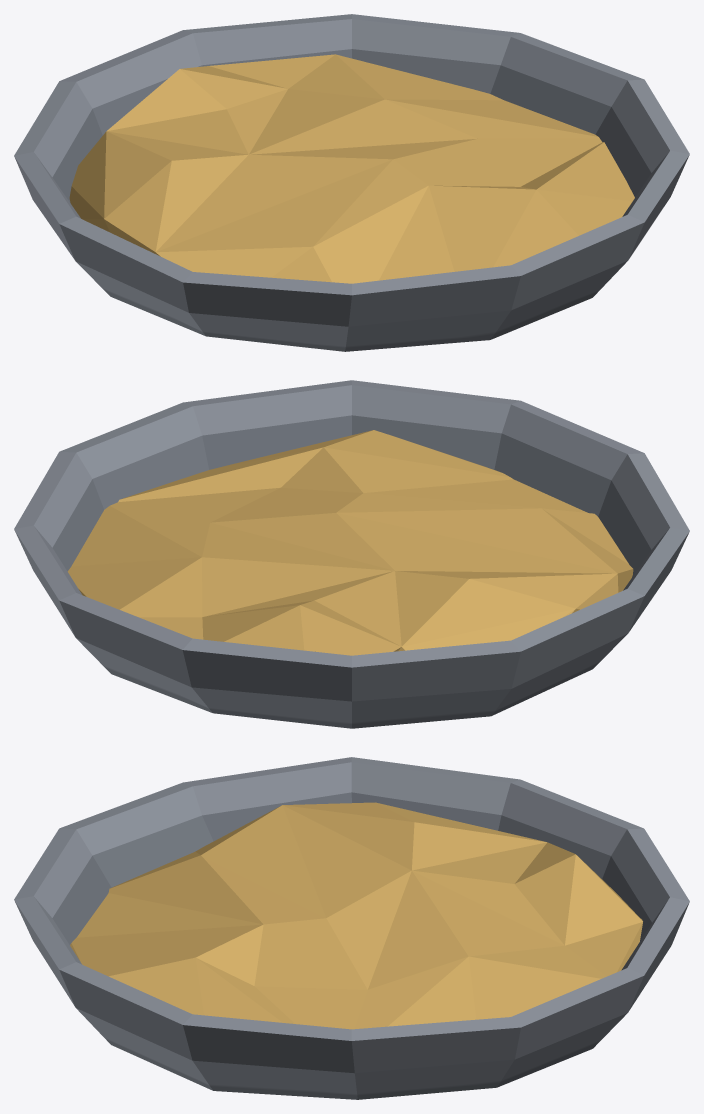
The model's file is SM_Prop_Plate_Large_03.fbx.
3 renders of one model, top to bottom at view 1: azimuth 30°, elevation 25°; view 2: azimuth 150°, elevation 25°; view 3: azimuth 270°, elevation 25°, orthographic.
Visible parts, largest first — view 1: SM_Prop_Plate_Large_Grain_03, SM_Prop_Plate_Large_03; view 2: SM_Prop_Plate_Large_03, SM_Prop_Plate_Large_Grain_03; view 3: SM_Prop_Plate_Large_Grain_03, SM_Prop_Plate_Large_03.
Boxes of the visible parts, <box> form: SM_Prop_Plate_Large_Grain_03: <box>69,54,634,283</box>; SM_Prop_Plate_Large_03: <box>14,14,689,351</box>; SM_Prop_Plate_Large_03: <box>14,380,689,728</box>; SM_Prop_Plate_Large_Grain_03: <box>67,430,633,655</box>; SM_Prop_Plate_Large_Grain_03: <box>70,802,642,1029</box>; SM_Prop_Plate_Large_03: <box>14,757,689,1099</box>.
Bounding box in the file's own units: 130 × 22.63 × 130.
